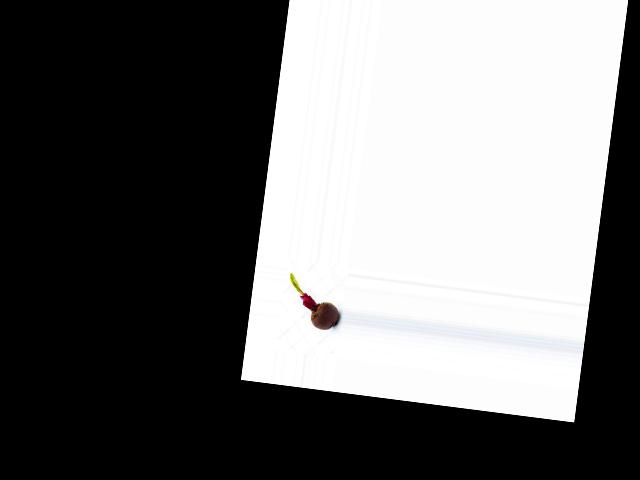beet: (284, 274, 343, 332)
